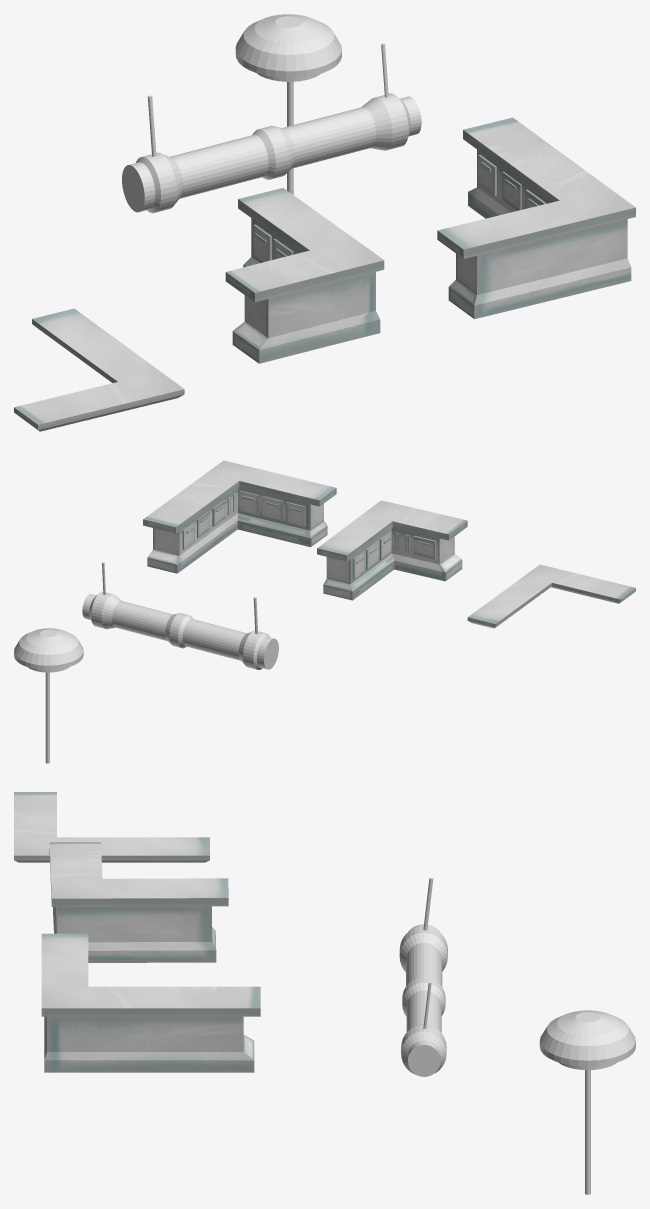
The model's file is light.fbx.
The picture shows the model from 3 angles, top to bottom: view 1: azimuth 30°, elevation 25°; view 2: azimuth 150°, elevation 25°; view 3: azimuth 270°, elevation 25°; orthographic projection. The views are drawn at different scales.
Parts seen in each view (by area): view 1: counterbetter, counterbetter.003, Cylinder, counter base.003, Cylinder.001; view 2: counterbetter, counterbetter.003, Cylinder, counter base.003, Cylinder.001; view 3: counterbetter, counterbetter.003, Cylinder, counter base.003, Cylinder.001.
Boxes of the visible parts, bbox=[...] form: counterbetter: bbox=[437, 117, 635, 319]; counterbetter.003: bbox=[225, 188, 384, 363]; Cylinder: bbox=[122, 43, 421, 213]; counter base.003: bbox=[14, 308, 184, 431]; Cylinder.001: bbox=[235, 14, 341, 194]; counterbetter: bbox=[143, 460, 336, 573]; counterbetter.003: bbox=[317, 500, 467, 600]; Cylinder: bbox=[82, 562, 278, 669]; counter base.003: bbox=[467, 564, 635, 628]; Cylinder.001: bbox=[14, 628, 83, 763]; counterbetter: bbox=[41, 933, 260, 1072]; counterbetter.003: bbox=[49, 842, 228, 962]; Cylinder: bbox=[399, 877, 447, 1076]; counter base.003: bbox=[14, 792, 209, 862]; Cylinder.001: bbox=[539, 1010, 635, 1194].
Size of the model in its own units: 2915 by 1095 by 2852.
